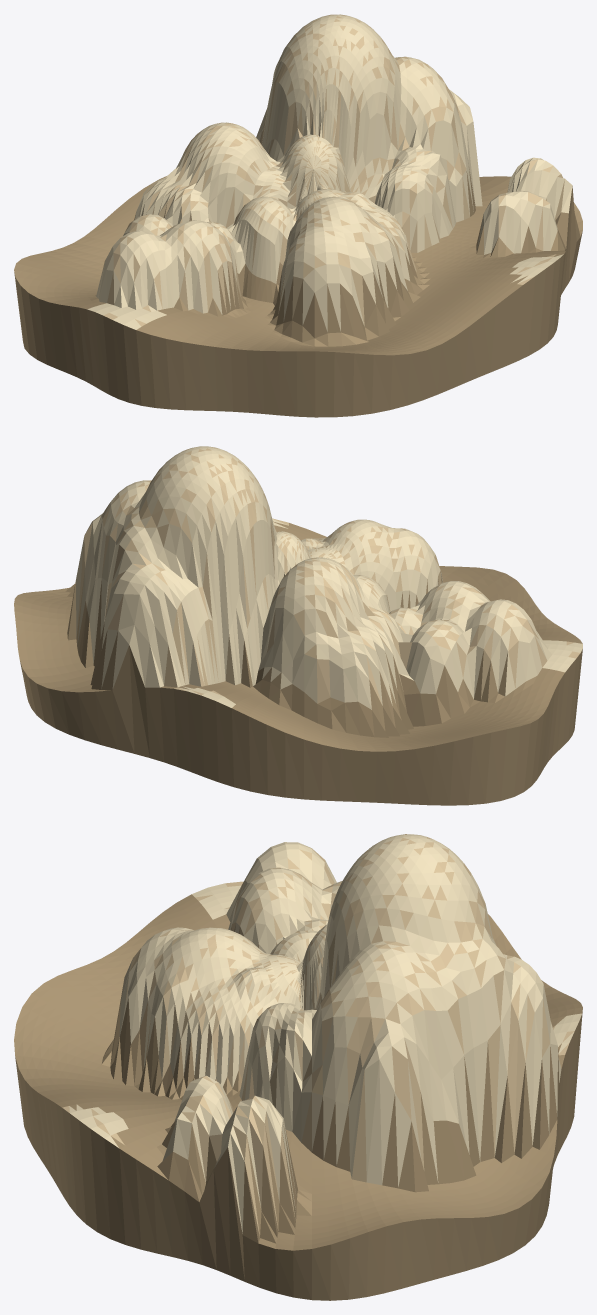
File: cave-popcorn.glb
3 views of the same model, one above another, from view 1: azimuth 30°, elevation 25°; view 2: azimuth 150°, elevation 25°; view 3: azimuth 270°, elevation 25° (orthographic). The views are drawn at different scales.
Visible parts, largest first — view 1: continuous-calcite-on-limestone; view 2: continuous-calcite-on-limestone; view 3: continuous-calcite-on-limestone.
Boxes of the visible parts, bbox=[...] form: continuous-calcite-on-limestone: bbox=[14, 14, 582, 417]; continuous-calcite-on-limestone: bbox=[14, 446, 582, 805]; continuous-calcite-on-limestone: bbox=[14, 834, 582, 1300].
Size of the model in its own units: 0.55 by 0.26 by 0.4.
